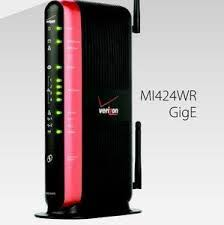Verizon Router: (34, 1, 146, 221)
